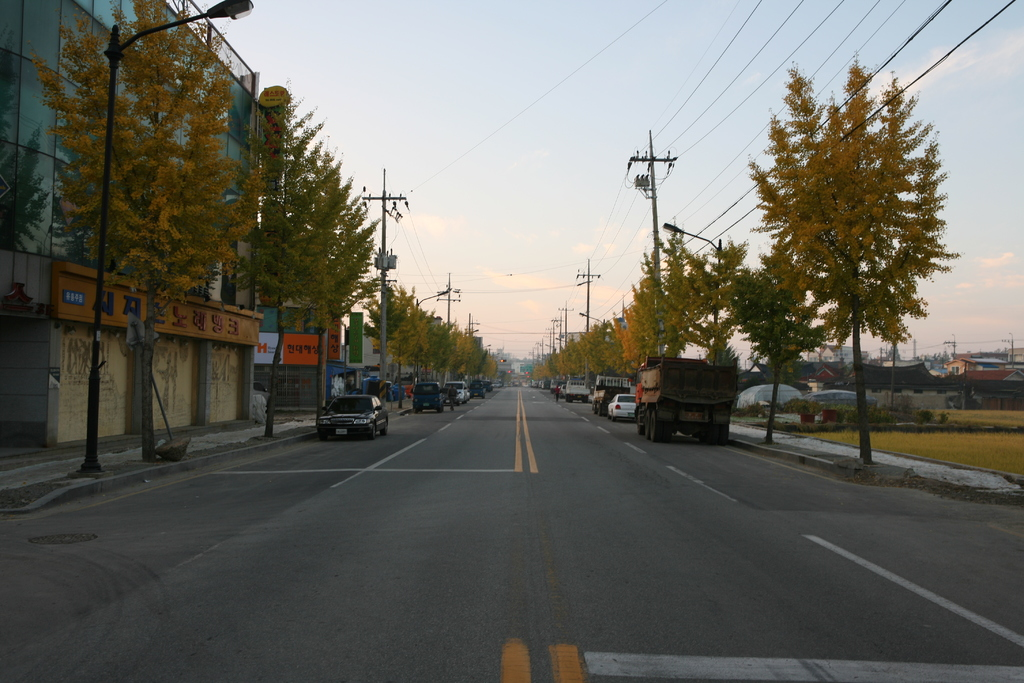Car: (318, 393, 391, 439), (414, 381, 448, 413), (608, 395, 641, 422), (453, 381, 471, 406)
